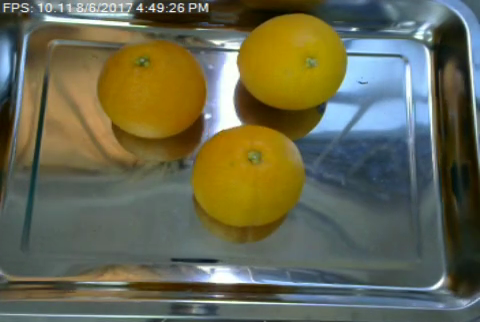Orange: (190, 123, 305, 227), (235, 12, 347, 109), (96, 39, 205, 138)
